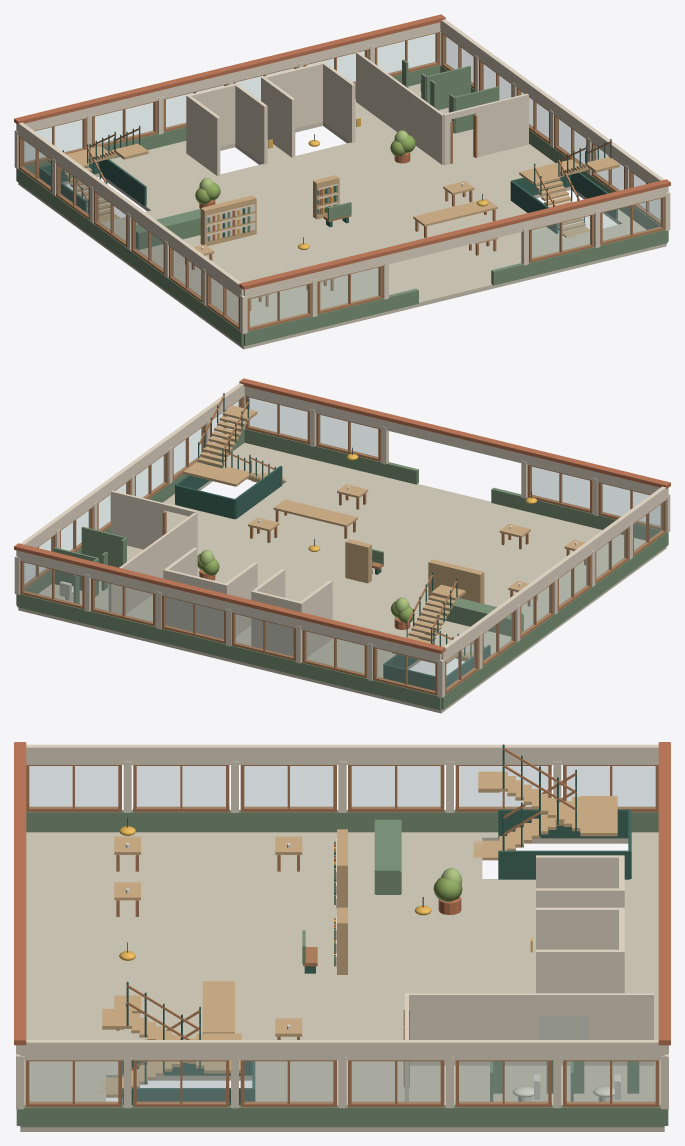
The model's file is campus-1F.glb.
3 views of the same model, one above another, from view 1: azimuth 30°, elevation 25°; view 2: azimuth 150°, elevation 25°; view 3: azimuth 270°, elevation 25° (orthographic). The views are drawn at different scales.
Parts seen in each view (by area): view 1: Inside_stone_1F, Shell_glass_1F, Inside_cream_1F, Shell_cream_1F, Shell_sage_1F, Shell_wood_1F, Inside_oak_1F, Shell_clay_1F, Inside_sage_1F, Inside_deep_1F, Inside_wood_1F, Inside_leaf_1F (+1 smaller); view 2: Inside_stone_1F, Shell_glass_1F, Shell_cream_1F, Shell_sage_1F, Inside_cream_1F, Shell_wood_1F, Inside_oak_1F, Shell_clay_1F, Inside_deep_1F, Inside_sage_1F, Inside_wood_1F, Inside_leaf_1F; view 3: Inside_stone_1F, Shell_glass_1F, Shell_cream_1F, Inside_cream_1F, Shell_sage_1F, Shell_wood_1F, Inside_oak_1F, Shell_clay_1F, Inside_deep_1F, Inside_sage_1F, Inside_wood_1F, Inside_glass_1F (+1 smaller).
Part boxes in pixels (x1,y1,x2,y2): Inside_stone_1F: (18, 83, 666, 349); Shell_glass_1F: (21, 34, 661, 327); Inside_cream_1F: (186, 52, 528, 241); Shell_cream_1F: (14, 19, 670, 333); Shell_sage_1F: (16, 65, 668, 346); Shell_wood_1F: (18, 32, 664, 331); Inside_oak_1F: (48, 143, 619, 299); Shell_clay_1F: (14, 14, 670, 289); Inside_sage_1F: (136, 59, 498, 249); Inside_deep_1F: (39, 125, 617, 237); Inside_wood_1F: (76, 114, 611, 310); Inside_leaf_1F: (195, 135, 415, 204); Inside_stone_1F: (18, 442, 666, 713); Shell_glass_1F: (23, 398, 663, 691); Shell_cream_1F: (14, 383, 670, 697); Shell_sage_1F: (16, 429, 668, 709); Inside_cream_1F: (108, 490, 332, 657); Shell_wood_1F: (20, 396, 666, 695); Inside_oak_1F: (183, 405, 585, 664); Shell_clay_1F: (14, 378, 670, 653); Inside_deep_1F: (175, 393, 490, 690); Inside_sage_1F: (53, 526, 523, 636); Inside_wood_1F: (162, 395, 586, 644); Inside_leaf_1F: (197, 553, 414, 623); Inside_stone_1F: (20, 832, 664, 1131); Shell_glass_1F: (29, 766, 655, 1102); Shell_cream_1F: (16, 744, 668, 1109); Inside_cream_1F: (336, 838, 653, 1101); Shell_sage_1F: (16, 810, 668, 1127); Shell_wood_1F: (25, 765, 659, 1107); Inside_oak_1F: (98, 771, 617, 1097); Shell_clay_1F: (14, 742, 670, 1045); Inside_deep_1F: (122, 744, 631, 1104); Inside_sage_1F: (302, 819, 639, 1101); Inside_wood_1F: (116, 748, 576, 1086); Inside_glass_1F: (539, 1015, 589, 1039).
Bounding box in the file's own units: 26.3 × 4.94 × 24.46.
